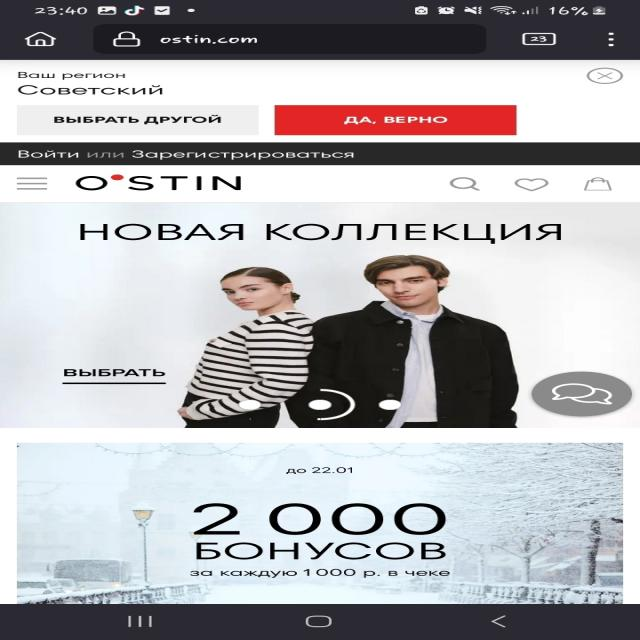button: (276, 105, 518, 135), (13, 105, 260, 134), (584, 68, 626, 84)
site: (2, 61, 640, 142)
